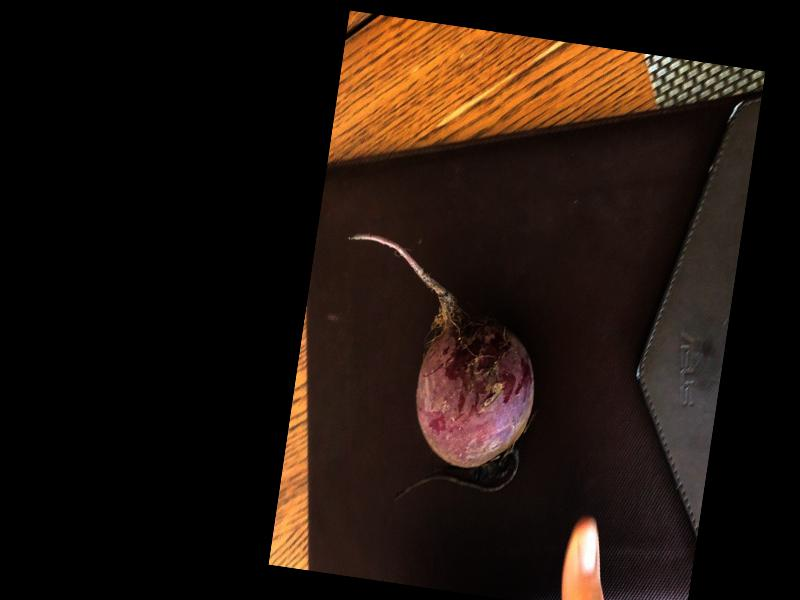Beet: (313, 230, 553, 515)
